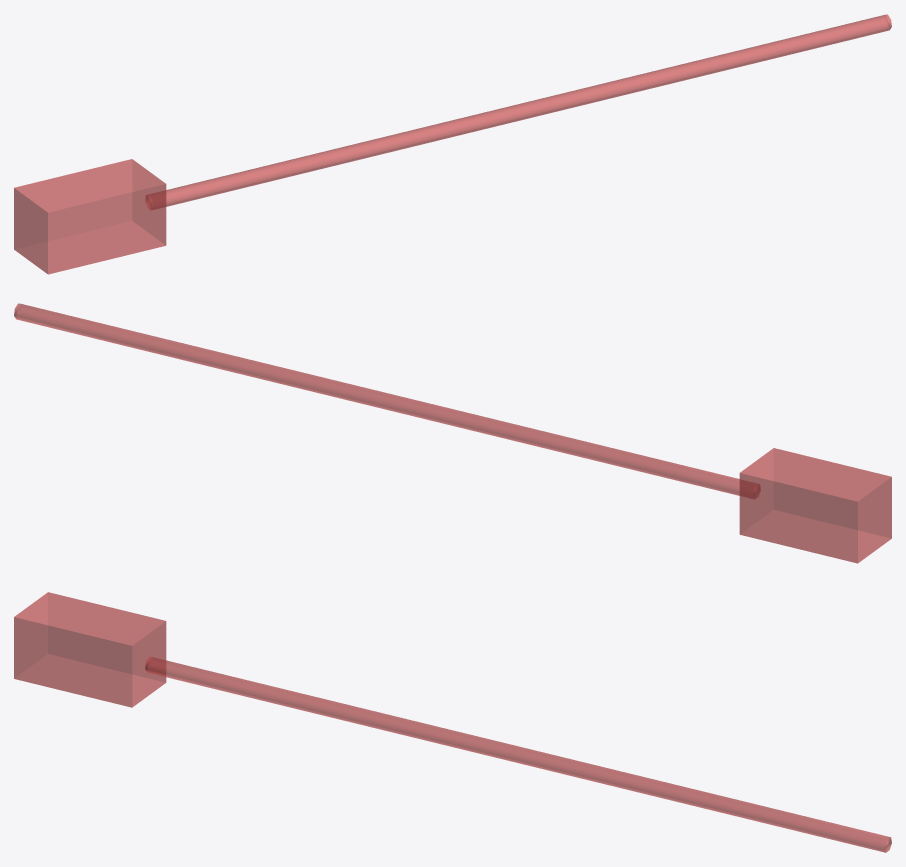
The model's file is gizmoScaleX.fbx.
The picture shows the model from 3 angles, top to bottom: view 1: azimuth 30°, elevation 25°; view 2: azimuth 150°, elevation 25°; view 3: azimuth 330°, elevation 25°; orthographic projection.
Visible parts, largest first — view 1: gizmoScaleX; view 2: gizmoScaleX; view 3: gizmoScaleX.
Part boxes in pixels (left/top/right/bottom): gizmoScaleX: left=14, top=14, right=891, bottom=274; gizmoScaleX: left=14, top=303, right=891, bottom=563; gizmoScaleX: left=14, top=592, right=891, bottom=852.
Bounding box in the file's own units: 29 × 2 × 2.
